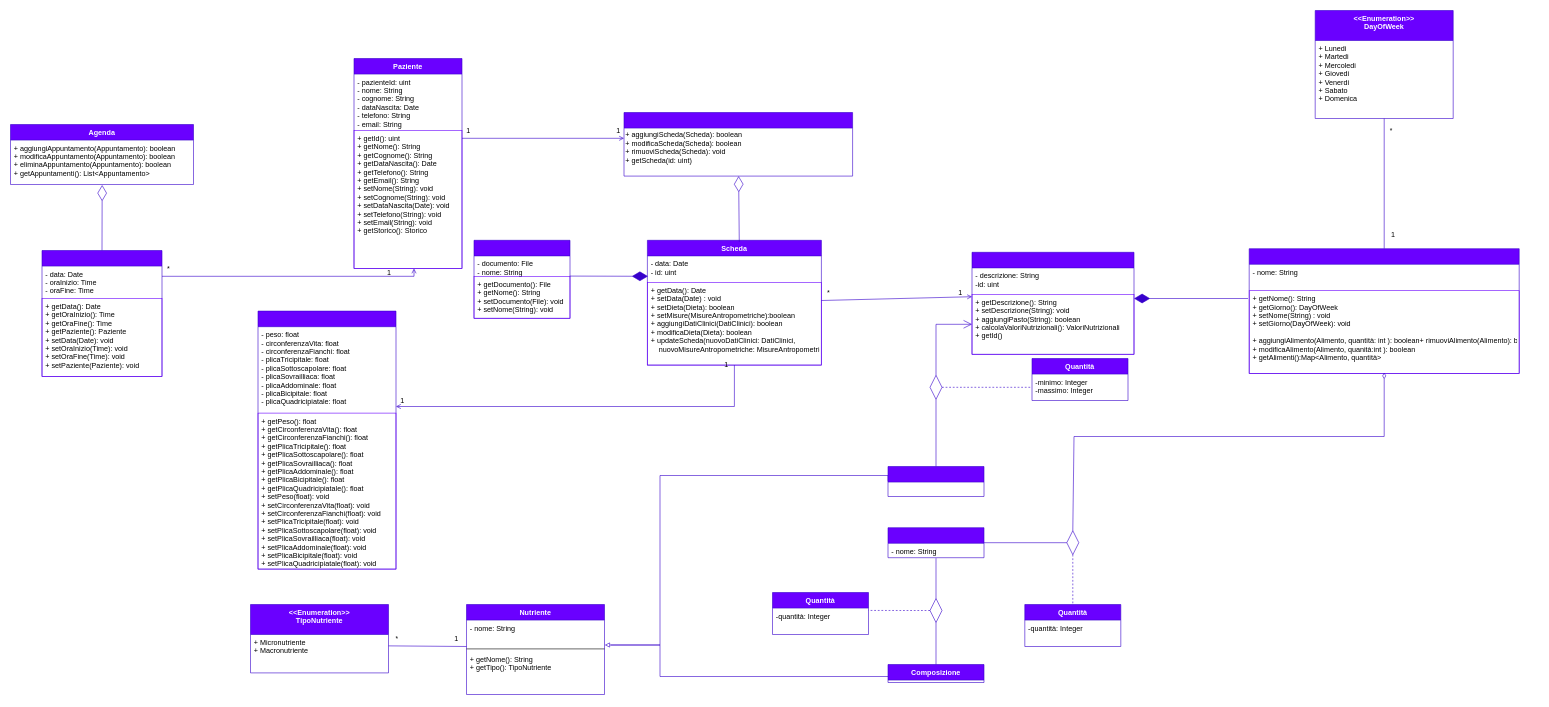
The diagram is 1549 pixels wide and 707 high, and some of its shapes have lost their labels. Each missing label, with the box of its shape:
Alimento: (887, 527, 984, 558)
Appuntamento: (41, 250, 162, 376)
DatiClinici: (473, 240, 570, 318)
Dieta: (971, 252, 1134, 354)
MisureAntropometriche: (257, 310, 396, 569)
Pasto: (1249, 248, 1519, 374)
Soglia: (887, 466, 984, 496)
Storico: (623, 112, 853, 176)
